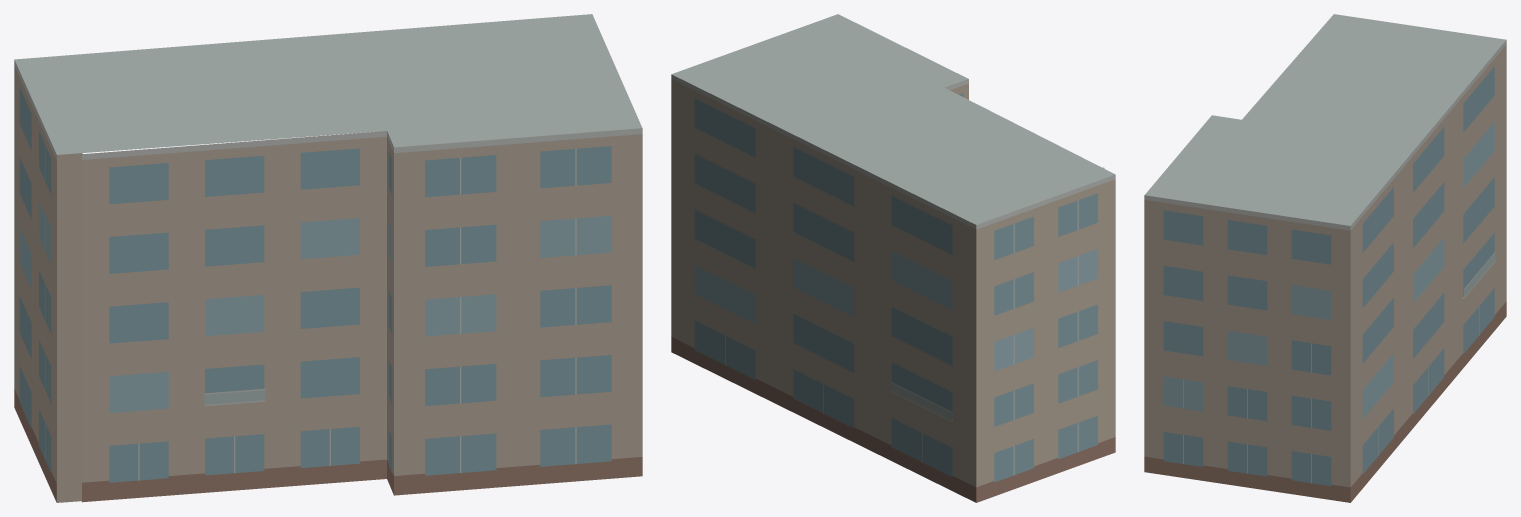
The model's file is survey-upis-32710339.glb.
3 renders of one model, left to right at view 1: azimuth 30°, elevation 25°; view 2: azimuth 150°, elevation 25°; view 3: azimuth 270°, elevation 25°, orthographic. The views are drawn at different scales.
Visible parts, largest first — view 1: survey-upis-32710339.tmp; view 2: survey-upis-32710339.tmp; view 3: survey-upis-32710339.tmp.
Part boxes in pixels (box(x1,y1,x2,y2)): survey-upis-32710339.tmp: box(14, 14, 642, 502); survey-upis-32710339.tmp: box(671, 14, 1115, 502); survey-upis-32710339.tmp: box(1144, 14, 1506, 502).
Size of the model in its own units: 23.98 by 14.6 by 17.31.
